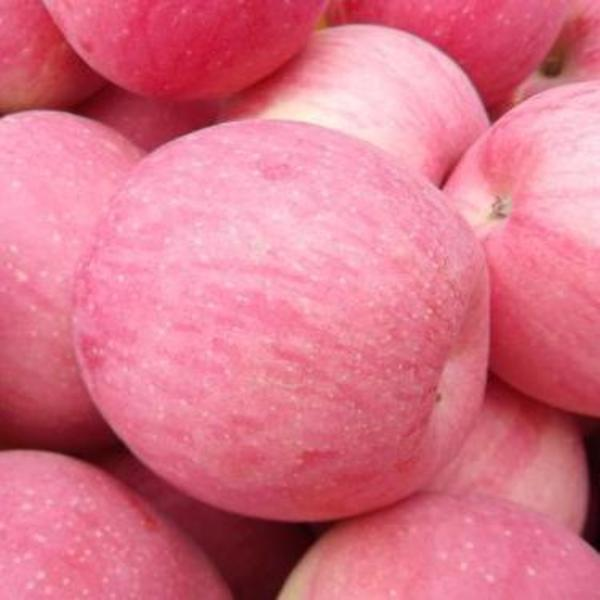apple: (67, 119, 489, 519)
